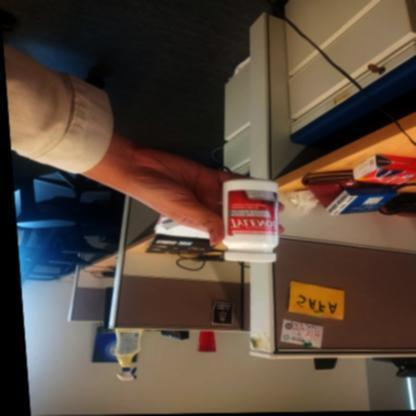jar: (222, 179, 279, 264)
